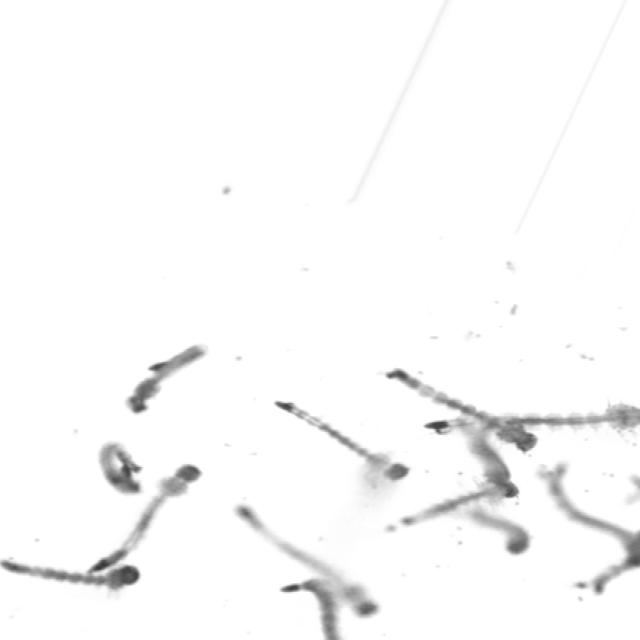larvas: (222, 478, 386, 622), (377, 362, 559, 464), (275, 383, 422, 509), (85, 454, 225, 567), (101, 330, 218, 446), (541, 457, 640, 556), (3, 549, 158, 611), (367, 477, 524, 537), (426, 404, 640, 443), (72, 432, 158, 522), (470, 498, 553, 562), (274, 579, 360, 640), (582, 549, 640, 616)
